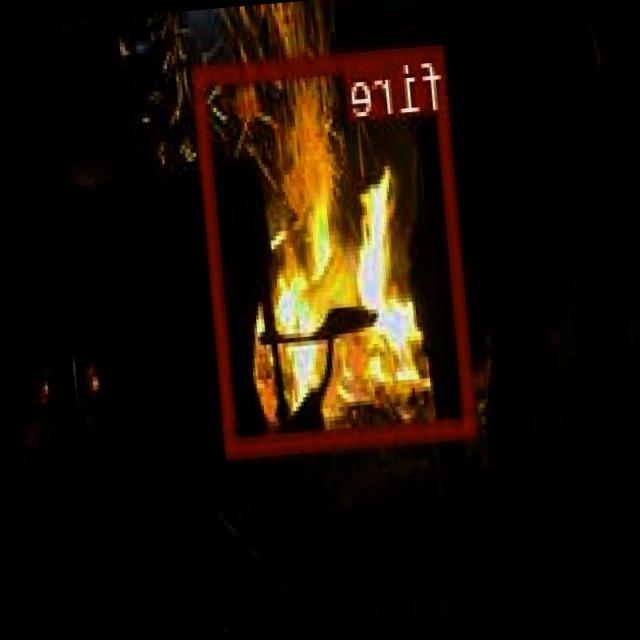fire: (195, 40, 479, 453)
